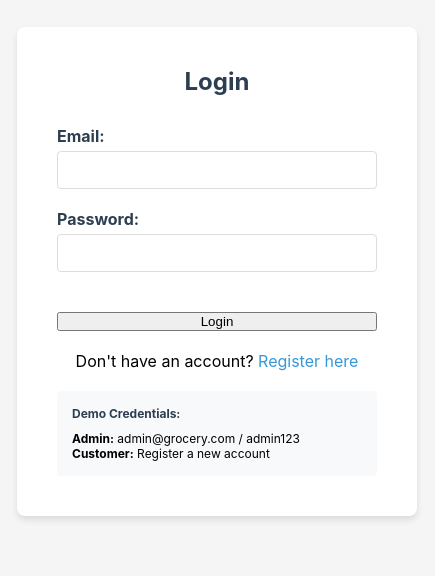
Test case: LoginPage › displays error message on login failure
The width and height of the screenshot is (435, 576).
Type "test@example.com" into the field labelled "Email:" at (217, 170), box [57,150,377,188]
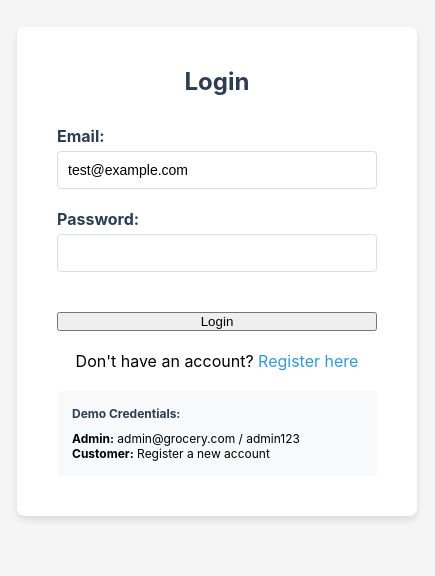
Type "wrongpassword" into the password field labelled "Password:" at (217, 252), box [57,234,377,272]
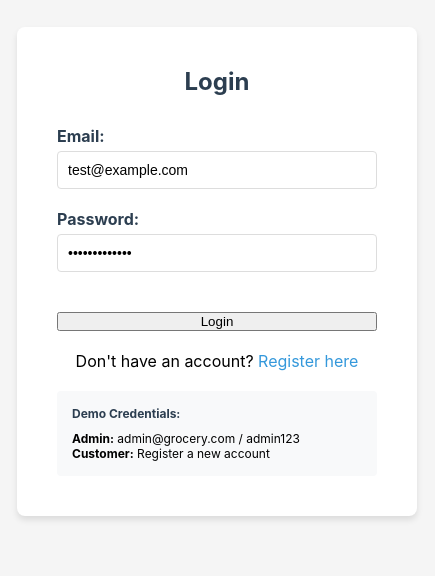
Click the button "Login" at (217, 321), box [57,312,377,330]
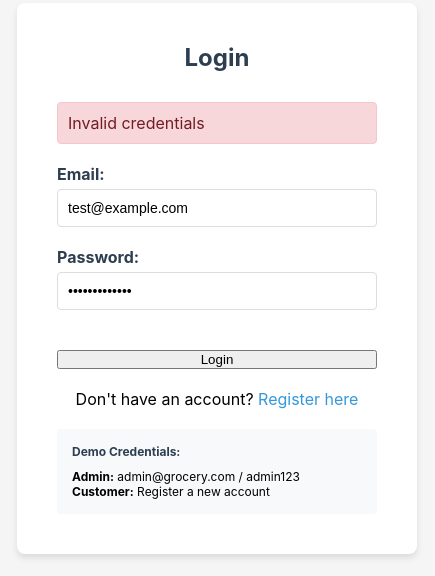
Expected: the text "Invalid credentials" is shown, [57,102,377,144]
